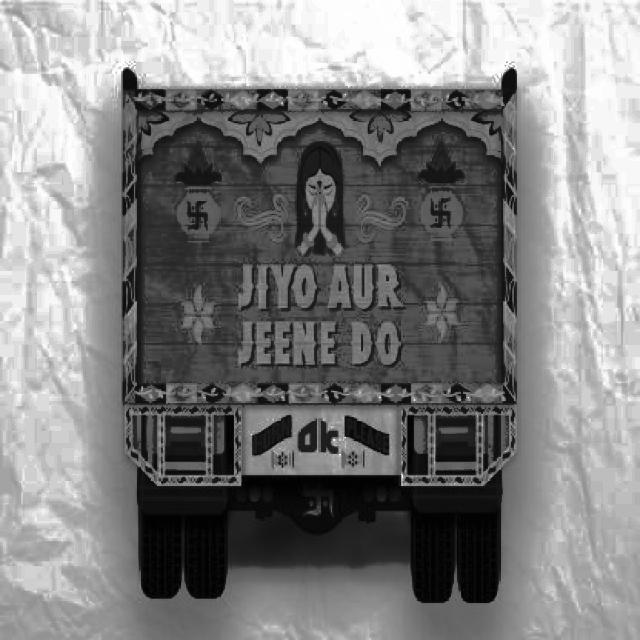HCV: (124, 12, 514, 618)
